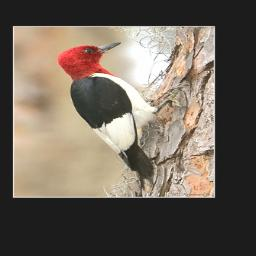Woodpecker: (55, 39, 189, 188)
